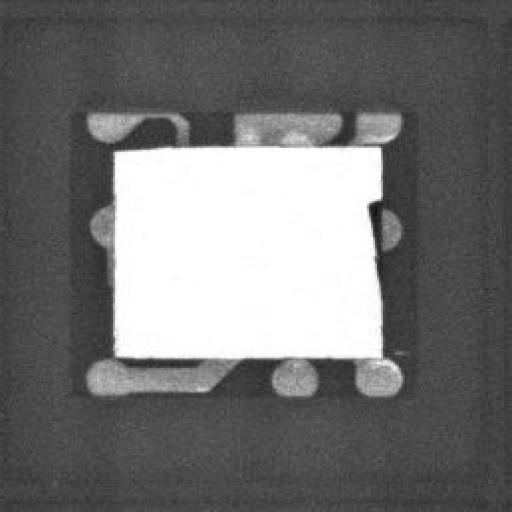DIE_BROKEN: (361, 194, 381, 302)
DIE_INK: (389, 345, 411, 359)
